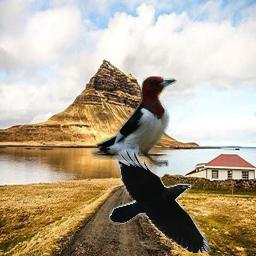Crow: (109, 148, 211, 253)
Woodpecker: (91, 76, 178, 169)
